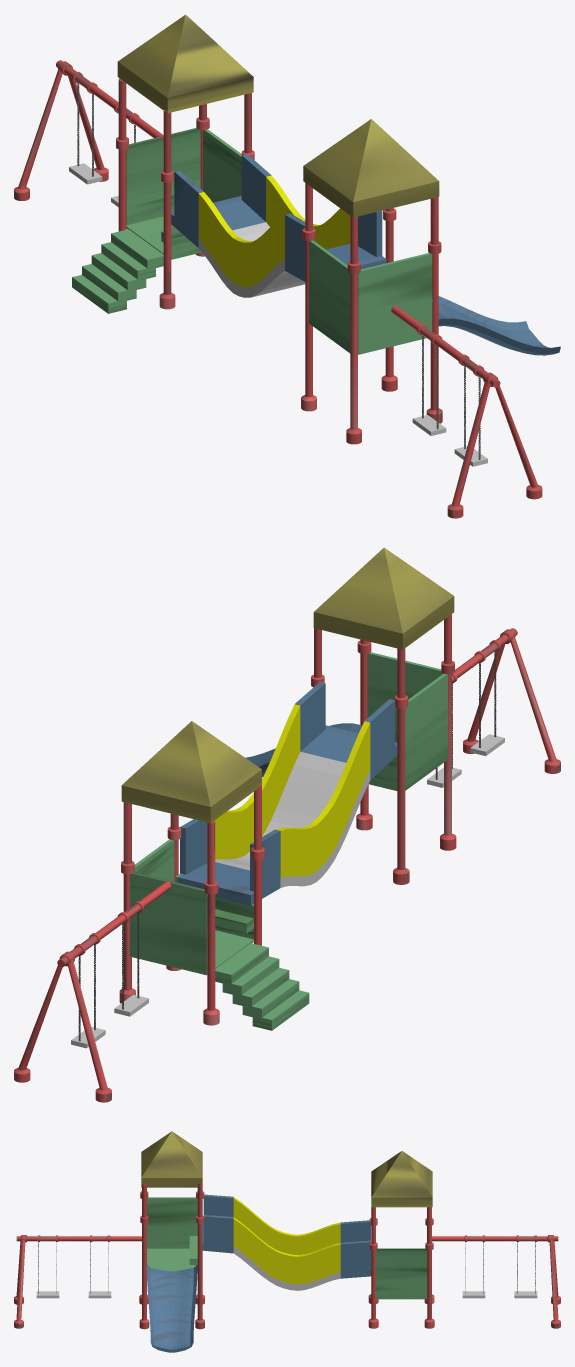
The model's file is Brinquedao.fbx.
3 renders of one model, top to bottom at view 1: azimuth 30°, elevation 25°; view 2: azimuth 150°, elevation 25°; view 3: azimuth 270°, elevation 25°, orthographic. The views are drawn at different scales.
Parts seen in each view (by area): view 1: Cube.002, Cube, Cylinder.010, Cylinder.008, Cylinder.005, Cube.013; view 2: Cube.002, Cube, Cylinder.008, Cylinder.010, Cylinder.005, Cube.013; view 3: Cube.002, Cube, Cylinder.008, Cylinder.010, Cylinder.005, Cube.013.
Part boxes in pixels (<box>): Cube.002: <box>72,14,560,355</box>; Cube: <box>171,154,386,297</box>; Cylinder.010: <box>301,183,442,444</box>; Cylinder.008: <box>14,60,542,518</box>; Cylinder.005: <box>116,78,254,309</box>; Cube.013: <box>69,83,487,466</box>; Cube.002: <box>121,547,454,1030</box>; Cube: <box>175,682,397,905</box>; Cylinder.008: <box>14,628,560,1102</box>; Cylinder.010: <box>311,614,456,884</box>; Cylinder.005: <box>119,784,264,1025</box>; Cube.013: <box>71,651,504,1048</box>; Cube.002: <box>141,1131,432,1352</box>; Cube: <box>202,1194,371,1290</box>; Cylinder.008: <box>14,1235,560,1328</box>; Cylinder.010: <box>139,1183,204,1329</box>; Cylinder.005: <box>368,1207,434,1328</box>; Cube.013: <box>36,1242,537,1298</box>.
Size of the model in its own units: 1689 by 1785 by 4822.
